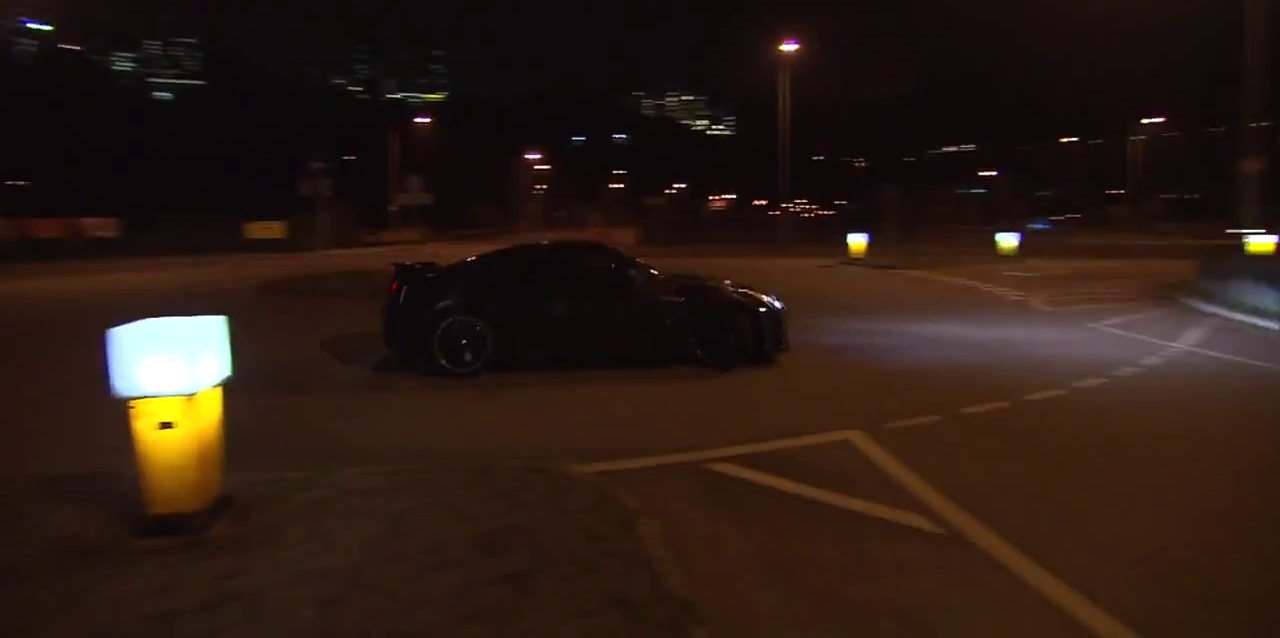car: (374, 229, 802, 394)
